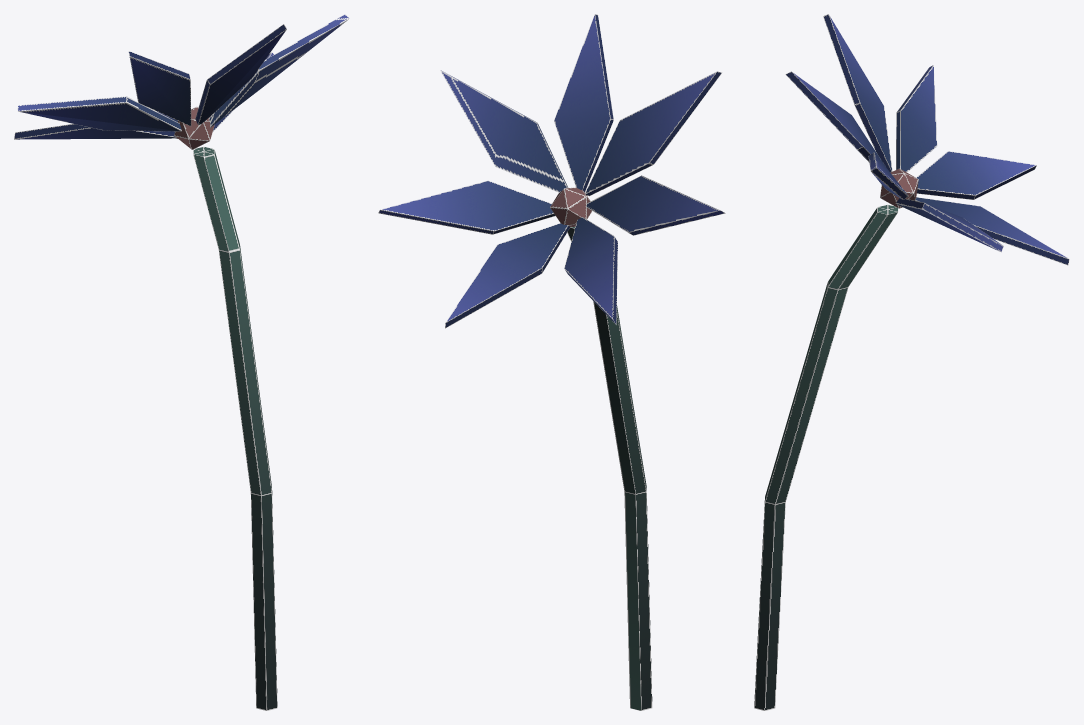
Rendered from Flor Curva 2.obj.
The picture shows the model from 3 angles, left to right: view 1: azimuth 30°, elevation 25°; view 2: azimuth 150°, elevation 25°; view 3: azimuth 270°, elevation 25°; orthographic projection. The views are drawn at different scales.
Parts seen in each view (by area): view 1: Flor Curva 2; view 2: Flor Curva 2; view 3: Flor Curva 2.
Boxes of the visible parts, bbox=[...] form: Flor Curva 2: bbox=[14, 14, 349, 710]; Flor Curva 2: bbox=[378, 14, 725, 710]; Flor Curva 2: bbox=[754, 14, 1069, 710].
Bounding box in the file's own units: 0.3127 × 0.6563 × 0.2889.
1 material, 1 textured.
